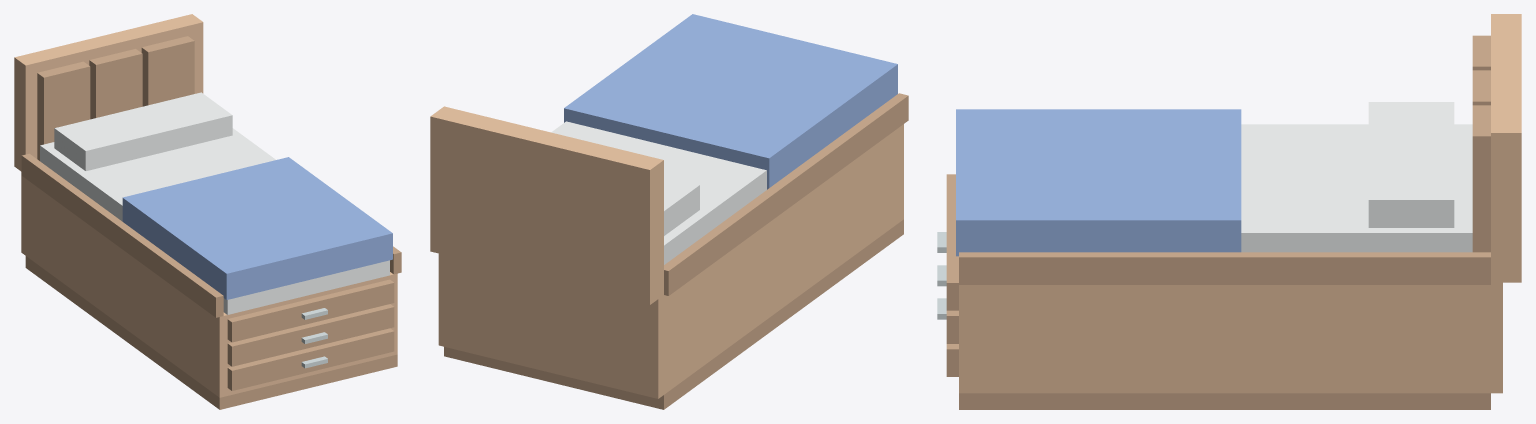
The model's file is bedCaptain.glb.
The picture shows the model from 3 angles, left to right: view 1: azimuth 30°, elevation 25°; view 2: azimuth 150°, elevation 25°; view 3: azimuth 270°, elevation 25°; orthographic projection. The views are drawn at different scales.
Visible parts, largest first — view 1: bedCaptain; view 2: bedCaptain; view 3: bedCaptain.
Boxes of the visible parts, <box> form: bedCaptain: <box>14,14,401,409</box>; bedCaptain: <box>430,14,908,409</box>; bedCaptain: <box>937,14,1521,409</box>.
Size of the model in its own units: 0.48 by 0.5 by 0.955.
